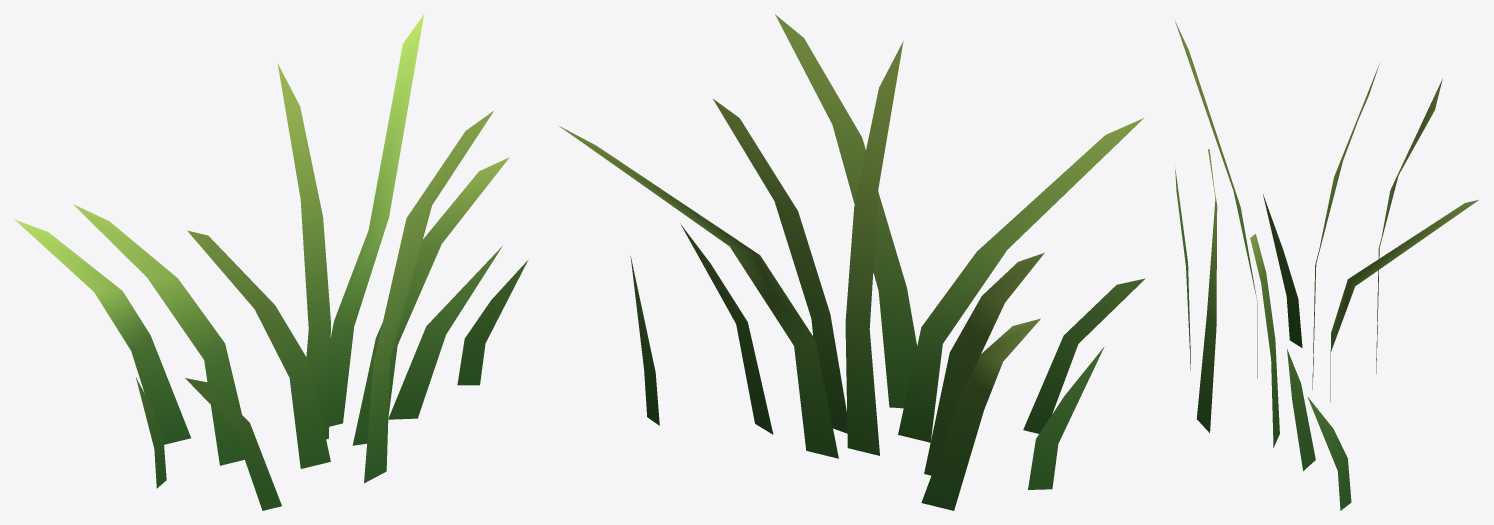
Rendered from Grass.glb.
3 views of the same model, side by side, from view 1: azimuth 30°, elevation 25°; view 2: azimuth 150°, elevation 25°; view 3: azimuth 270°, elevation 25° (orthographic). The views are drawn at different scales.
Parts seen in each view (by area): view 1: Grass_Small.1; view 2: Grass_Small.1; view 3: Grass_Small.1.
Part boxes in pixels (left/top/right/bottom): Grass_Small.1: left=15, top=15, right=528, bottom=510; Grass_Small.1: left=558, top=14, right=1145, bottom=510; Grass_Small.1: left=1175, top=21, right=1478, bottom=510.
Size of the model in its own units: 47 by 39.41 by 27.75.
1 material, 1 textured.
